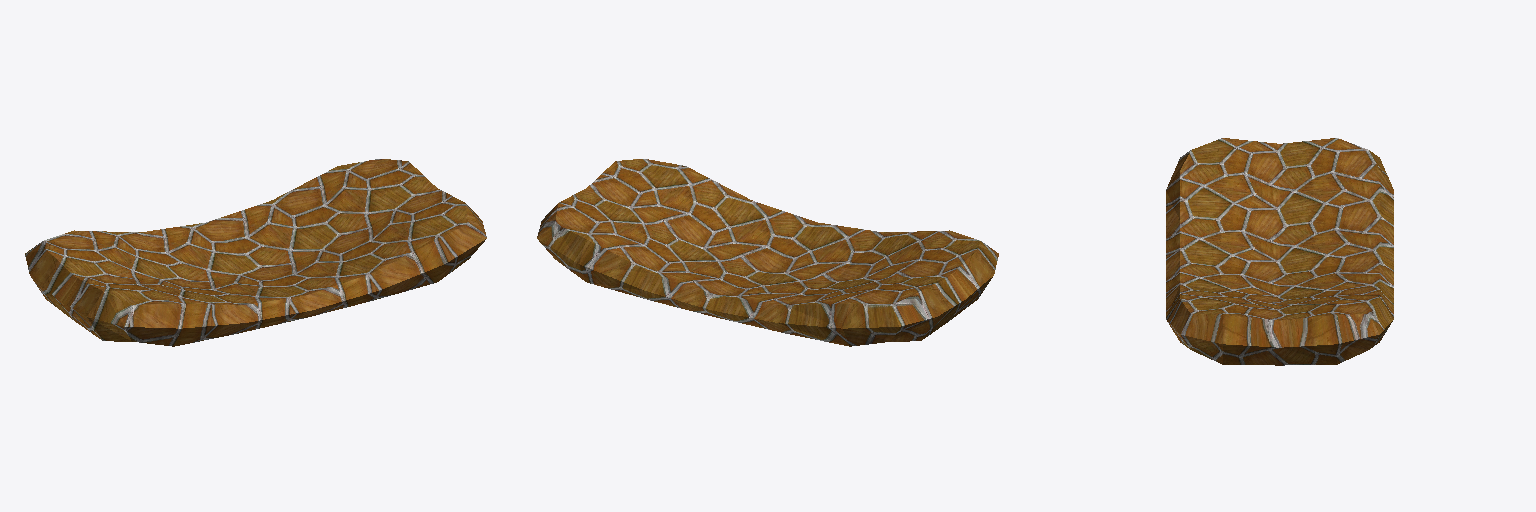
3 views of the same model, side by side, from view 1: azimuth 30°, elevation 25°; view 2: azimuth 150°, elevation 25°; view 3: azimuth 270°, elevation 25° (orthographic).
Parts seen in each view (by area): view 1: Cube_Cube_Material_Darkon_Tree02.jpg; view 2: Cube_Cube_Material_Darkon_Tree02.jpg; view 3: Cube_Cube_Material_Darkon_Tree02.jpg.
Boxes of the visible parts, <box> form: Cube_Cube_Material_Darkon_Tree02.jpg: <box>25,159,486,346</box>; Cube_Cube_Material_Darkon_Tree02.jpg: <box>537,159,998,346</box>; Cube_Cube_Material_Darkon_Tree02.jpg: <box>1166,138,1393,365</box>.
Size of the model in its own units: 60 by 8.62 by 30.
1 materials, 1 textured.